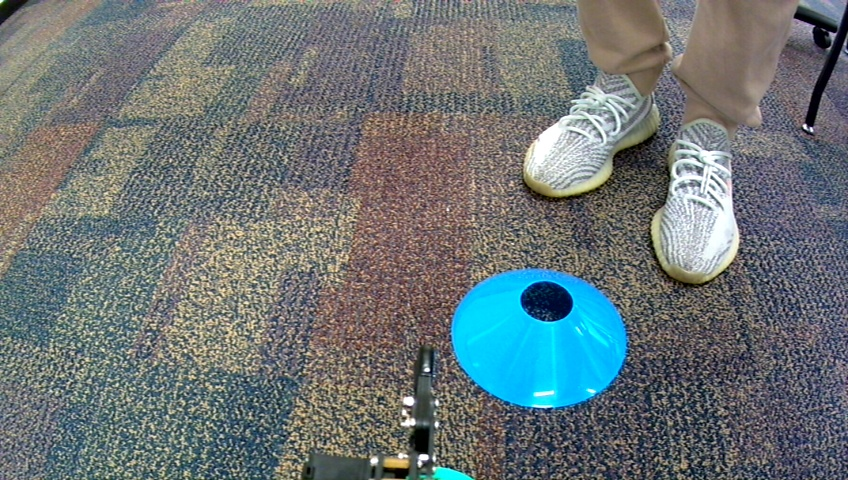cone: (449, 265, 630, 408)
